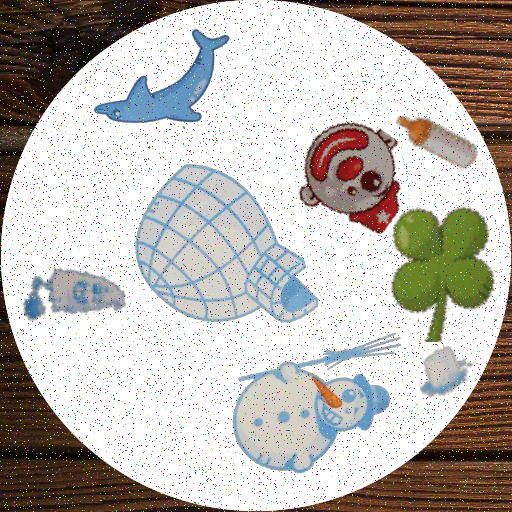bottle_icon: (392, 94, 482, 184)
cloverleaf_icon: (356, 194, 504, 342)
clown_icon: (294, 121, 409, 236)
cube_icon: (410, 337, 474, 401)
dolphin_icon: (92, 11, 242, 161)
ghost_icon: (21, 243, 128, 350)
igloo_icon: (130, 153, 336, 359)
snowman_icon: (224, 298, 412, 486)
